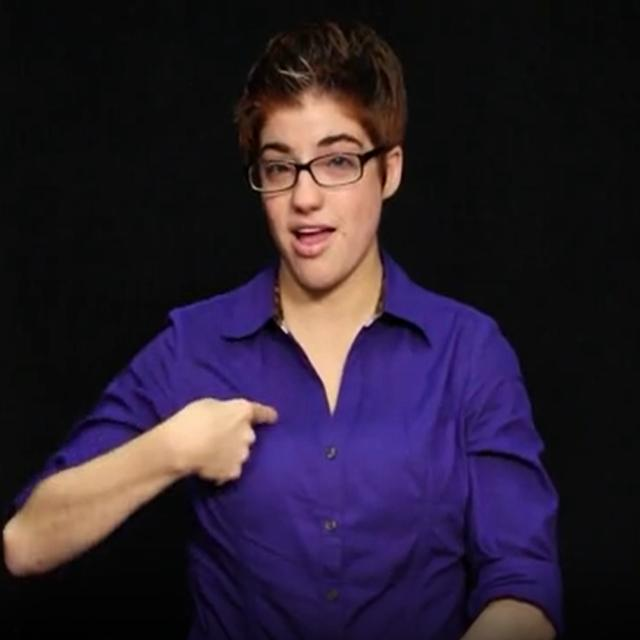I: (188, 399, 278, 481)
